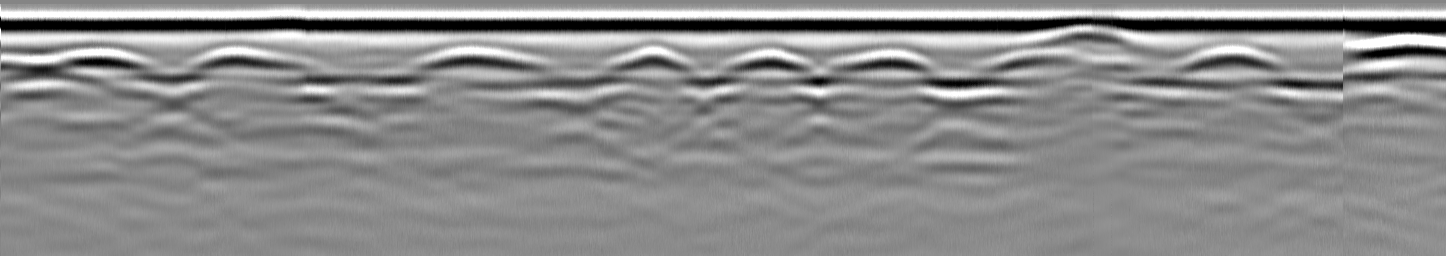pipe: (1029, 16, 1150, 54)
steel: (27, 43, 161, 86), (408, 41, 551, 76), (1177, 42, 1295, 80), (183, 45, 315, 75), (605, 39, 694, 78), (722, 43, 817, 77), (839, 48, 929, 81)
